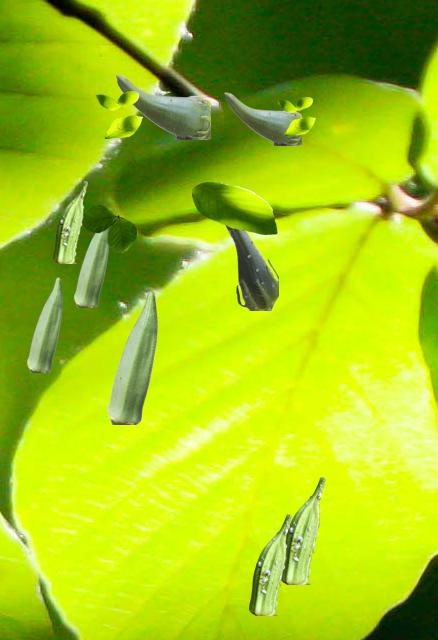okra: (107, 291, 156, 423), (115, 74, 209, 138), (281, 477, 324, 583), (223, 225, 277, 309), (249, 514, 290, 614), (224, 92, 300, 144), (27, 277, 61, 371), (53, 181, 86, 262), (74, 229, 108, 306)
